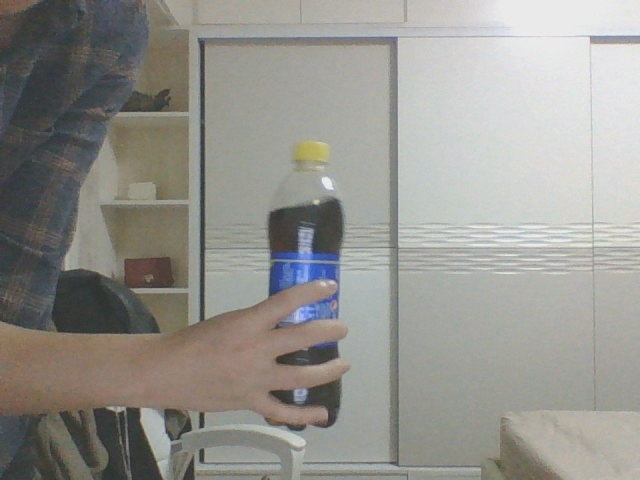Cola: (264, 141, 345, 430)
